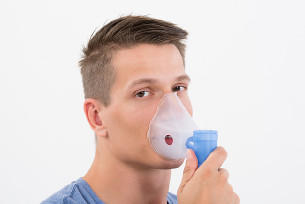face_mask: (108, 43, 199, 167)
